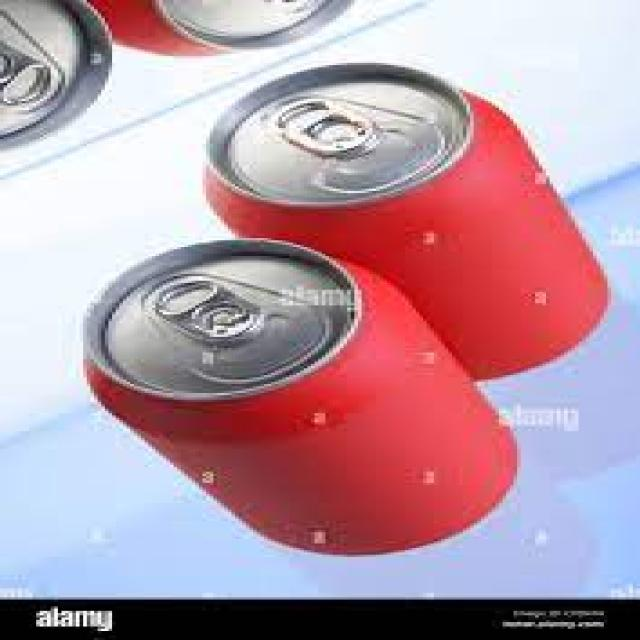Cans: (51, 236, 528, 554), (202, 67, 608, 366)
